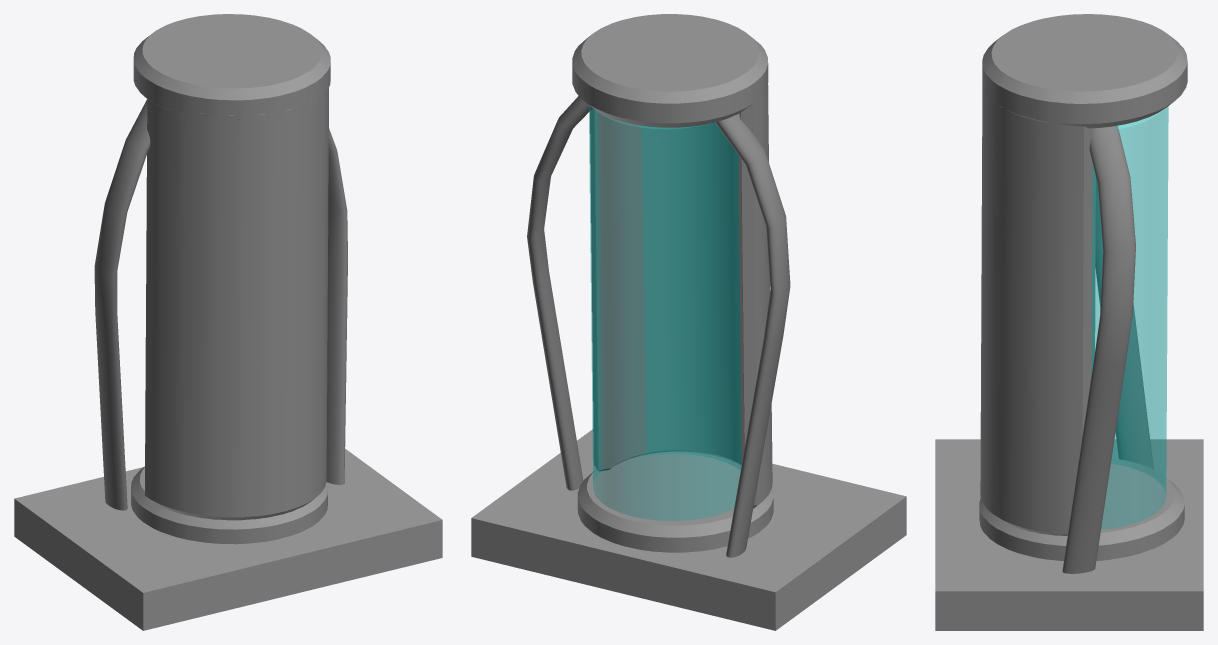
Rendered from CryopodFinal.fbx.
3 renders of one model, left to right at view 1: azimuth 30°, elevation 25°; view 2: azimuth 150°, elevation 25°; view 3: azimuth 270°, elevation 25°, orthographic. The views are drawn at different scales.
Parts seen in each view (by area): view 1: polySurface7, polySurface1, polySurface4, polySurface3, polySurface2, polySurface6; view 2: polySurface5, polySurface7, polySurface1, polySurface4, polySurface6, polySurface3, polySurface2; view 3: polySurface7, polySurface1, polySurface5, polySurface4, polySurface2, polySurface6, polySurface3.
Boxes of the visible parts, x1,y1,x2,y2 form: polySurface7: [145, 88, 328, 520]; polySurface1: [14, 448, 442, 630]; polySurface4: [133, 14, 330, 119]; polySurface3: [94, 99, 150, 510]; polySurface2: [326, 128, 347, 484]; polySurface6: [131, 466, 327, 544]; polySurface5: [589, 105, 741, 520]; polySurface7: [590, 81, 772, 508]; polySurface1: [471, 429, 906, 630]; polySurface4: [572, 14, 768, 127]; polySurface6: [577, 451, 773, 552]; polySurface3: [715, 113, 790, 557]; polySurface2: [527, 96, 592, 490]; polySurface7: [980, 81, 1095, 535]; polySurface1: [935, 439, 1203, 630]; polySurface5: [1091, 106, 1168, 529]; polySurface4: [982, 14, 1187, 128]; polySurface2: [1062, 125, 1135, 573]; polySurface6: [979, 458, 1184, 561]; polySurface3: [1095, 178, 1153, 469].
Bounding box in the file's own units: 1.09 × 1.69 × 0.8102.
